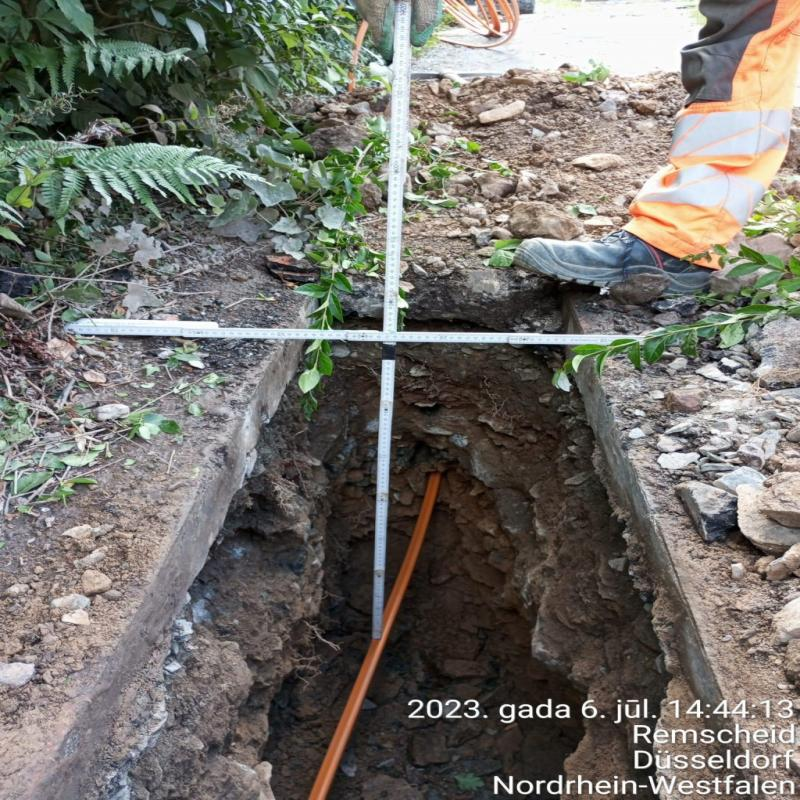Orang-Speednetrohrchen: (309, 473, 441, 800)
